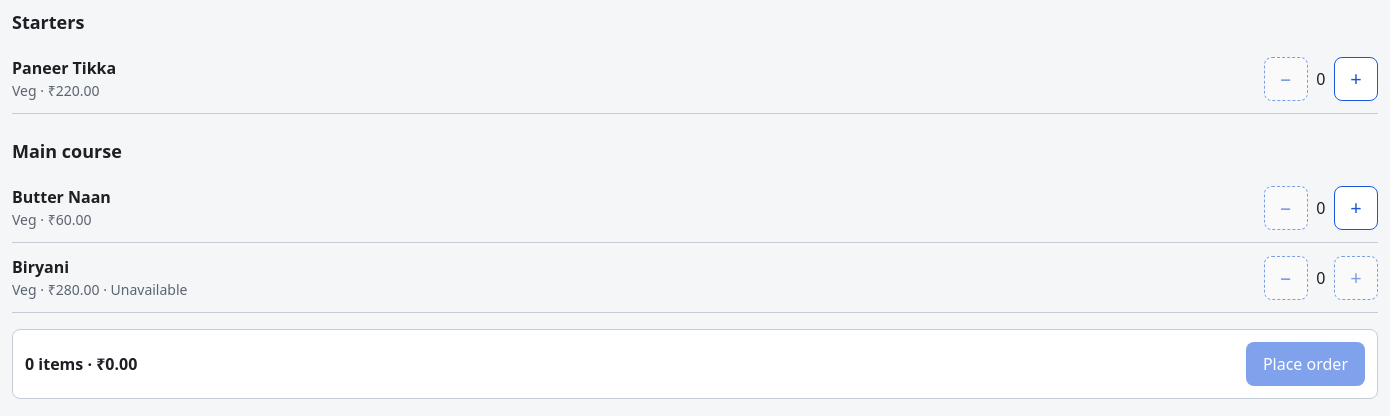
Test case: RestaurantPage: placing the order › shows a busy button that keeps the focus
Click the button named "Add Paneer Tikka" at (1356, 78), box [1334,56,1378,100]
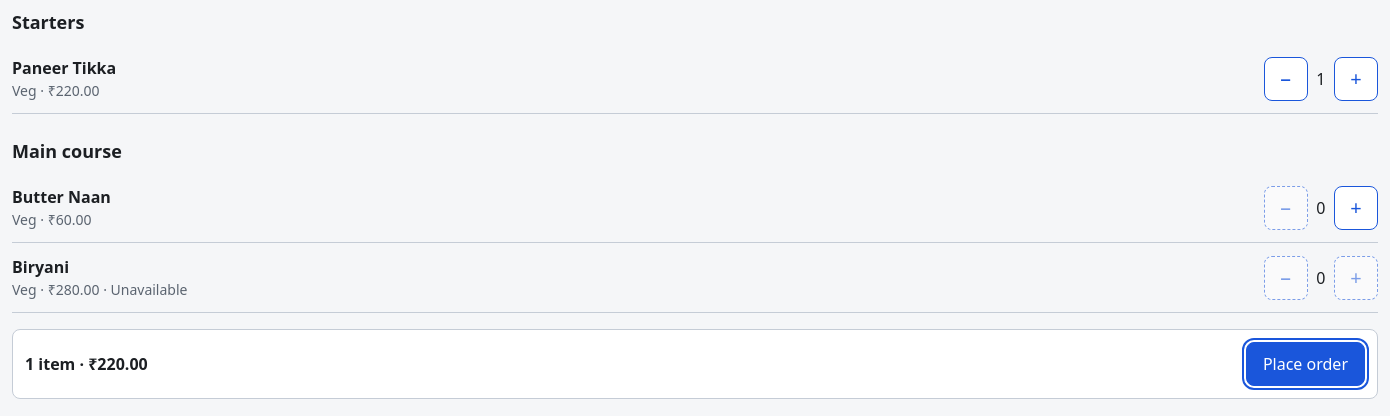
Click the button "Place order" at (1305, 364), box [1246,342,1365,386]
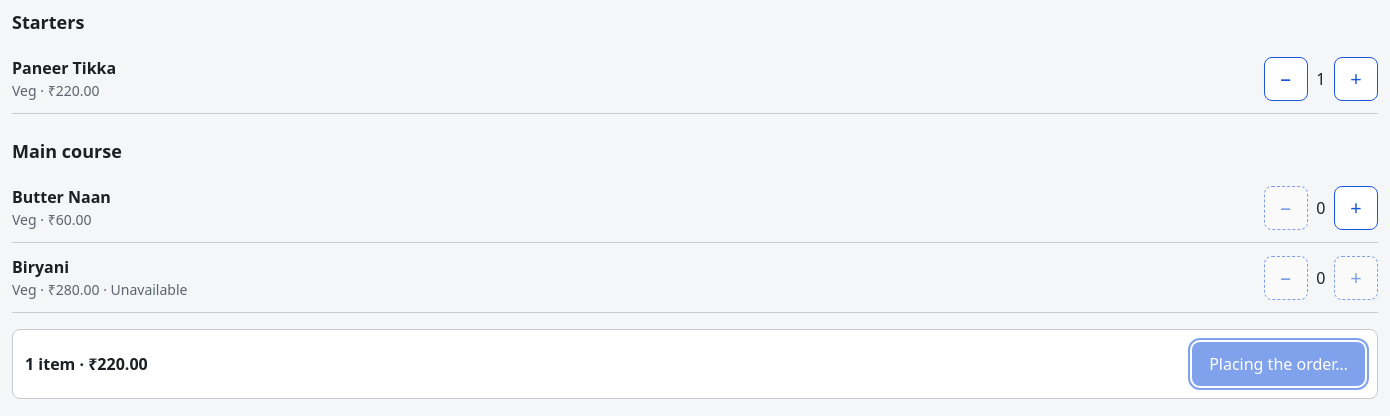
Now the button named "Place order" reads "Placing the order…", box [1192,342,1365,386]
